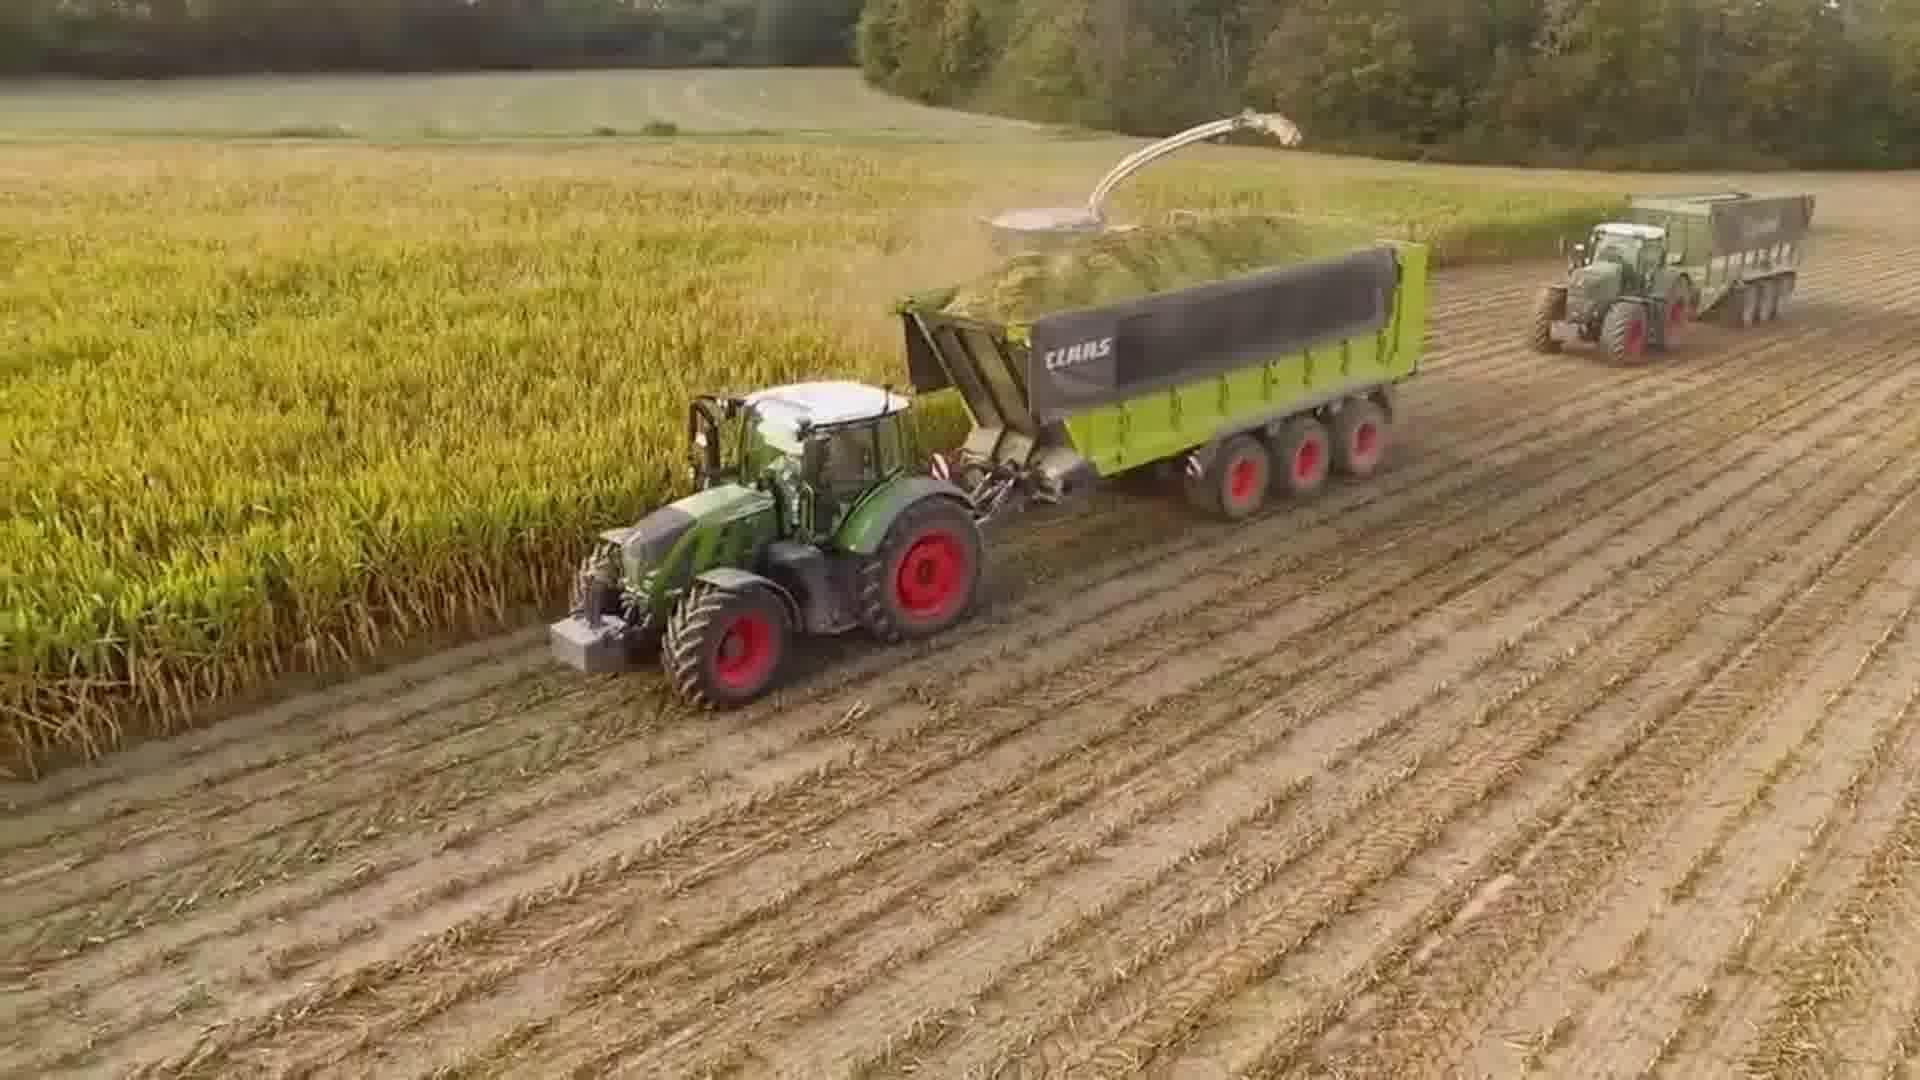combine harvester: (974, 101, 1303, 251)
tractor: (543, 371, 991, 717), (1527, 214, 1701, 374)
trailer: (889, 207, 1439, 531), (1620, 179, 1819, 343)
